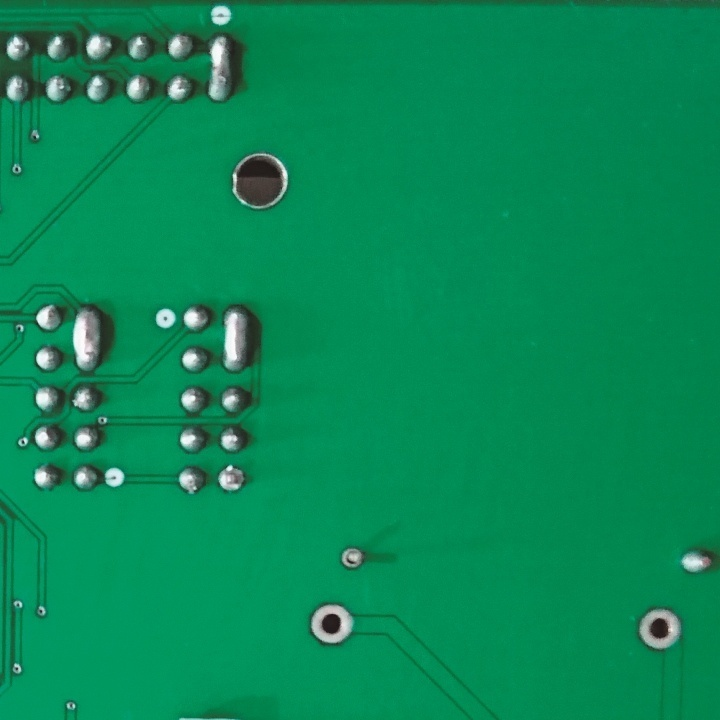F: (306, 600, 359, 650), (636, 606, 684, 652), (217, 460, 247, 498), (339, 545, 364, 571)
P: (220, 298, 258, 379), (203, 31, 239, 115), (70, 298, 107, 377)
